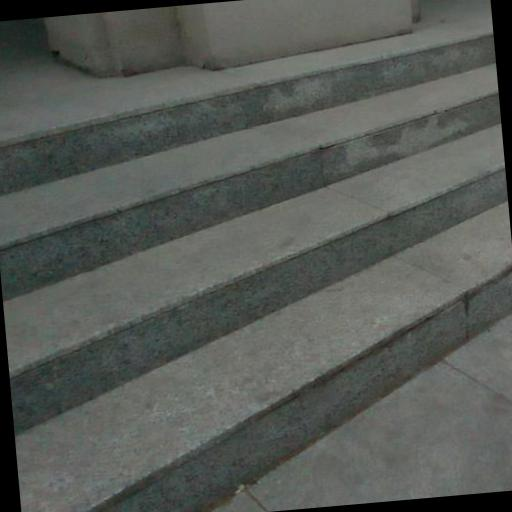stairs: (0, 35, 511, 511)
